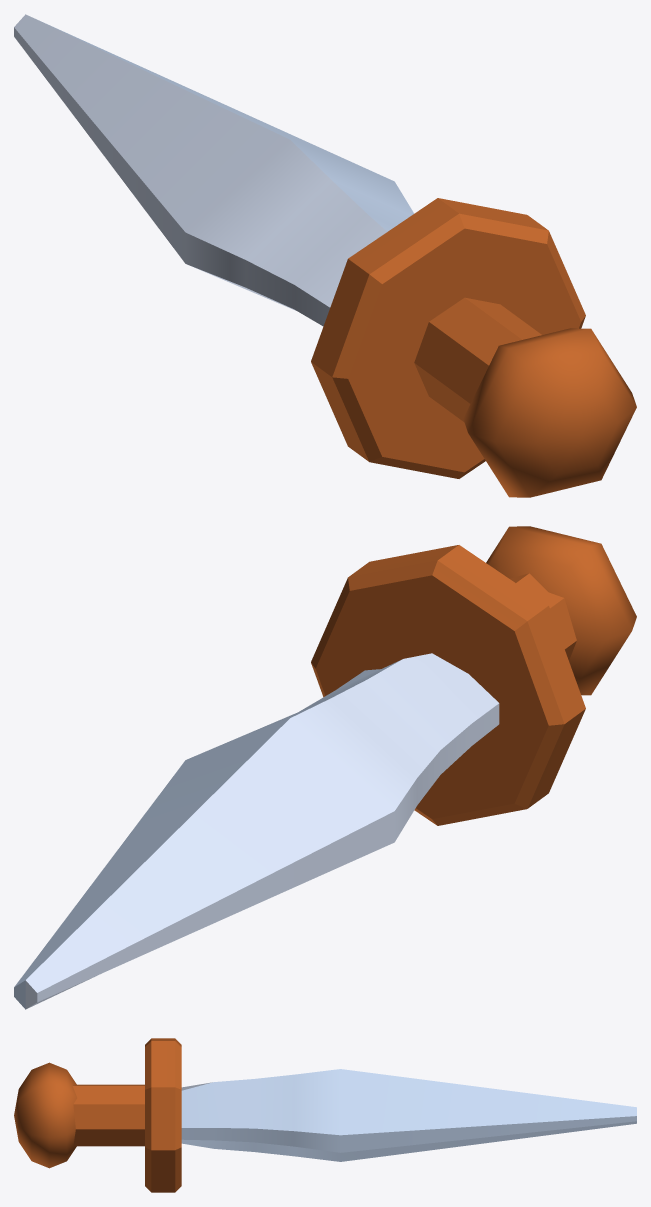
File: Knife.fbx
3 renders of one model, top to bottom at view 1: azimuth 30°, elevation 25°; view 2: azimuth 150°, elevation 25°; view 3: azimuth 270°, elevation 25°, orthographic. The views are drawn at different scales.
Parts seen in each view (by area): view 1: Knife; view 2: Knife; view 3: Knife.
Boxes of the visible parts, left/top/right/bottom form: Knife: left=14, top=14, right=636, bottom=497; Knife: left=14, top=526, right=636, bottom=1009; Knife: left=14, top=1038, right=636, bottom=1192.
Size of the model in its own units: 27.52 by 27.52 by 104.
1 material, 1 textured.
